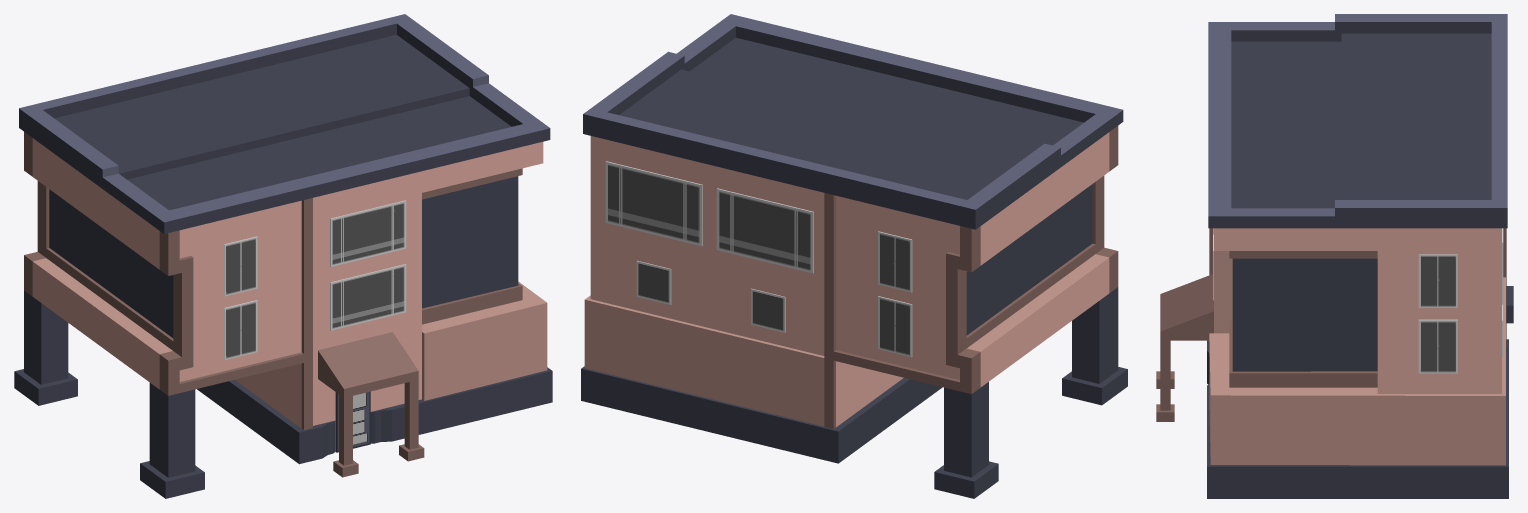
File: house10_color02.fbx
The picture shows the model from 3 angles, left to right: view 1: azimuth 30°, elevation 25°; view 2: azimuth 150°, elevation 25°; view 3: azimuth 270°, elevation 25°; orthographic projection. The views are drawn at different scales.
Visible parts, largest first — view 1: house10_color02; view 2: house10_color02; view 3: house10_color02.
Boxes of the visible parts, box(x1,y1,x2,y2) form: house10_color02: box(14, 14, 552, 498); house10_color02: box(581, 14, 1127, 498); house10_color02: box(1156, 14, 1513, 498).
Bounding box in the file's own units: 1444 × 1000 × 1116.
